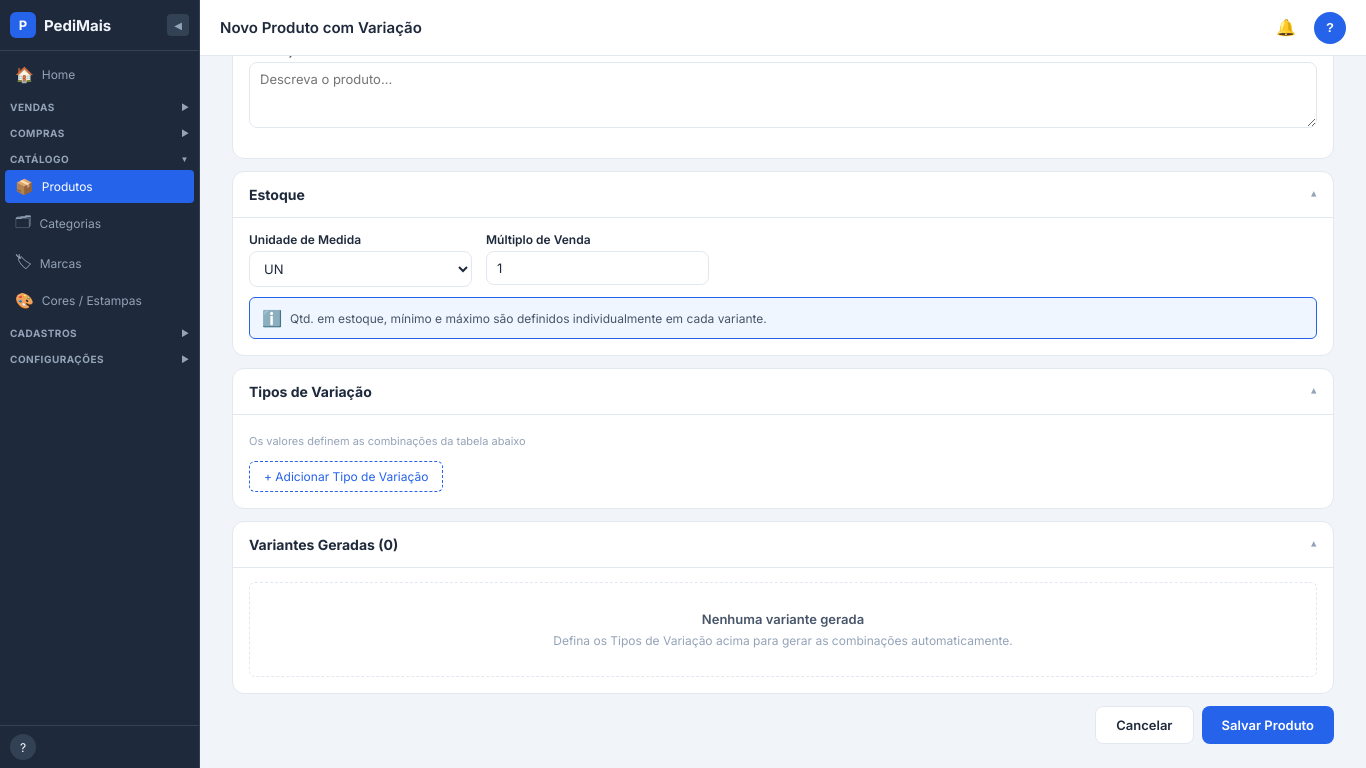
ProductVariationFormView › edits a matrix-generated variante row
The image size is (1366, 768).
(page scrolled)
Click the button with test id "adicionar-tipo-variacao": (346, 476) [249, 461, 443, 492]
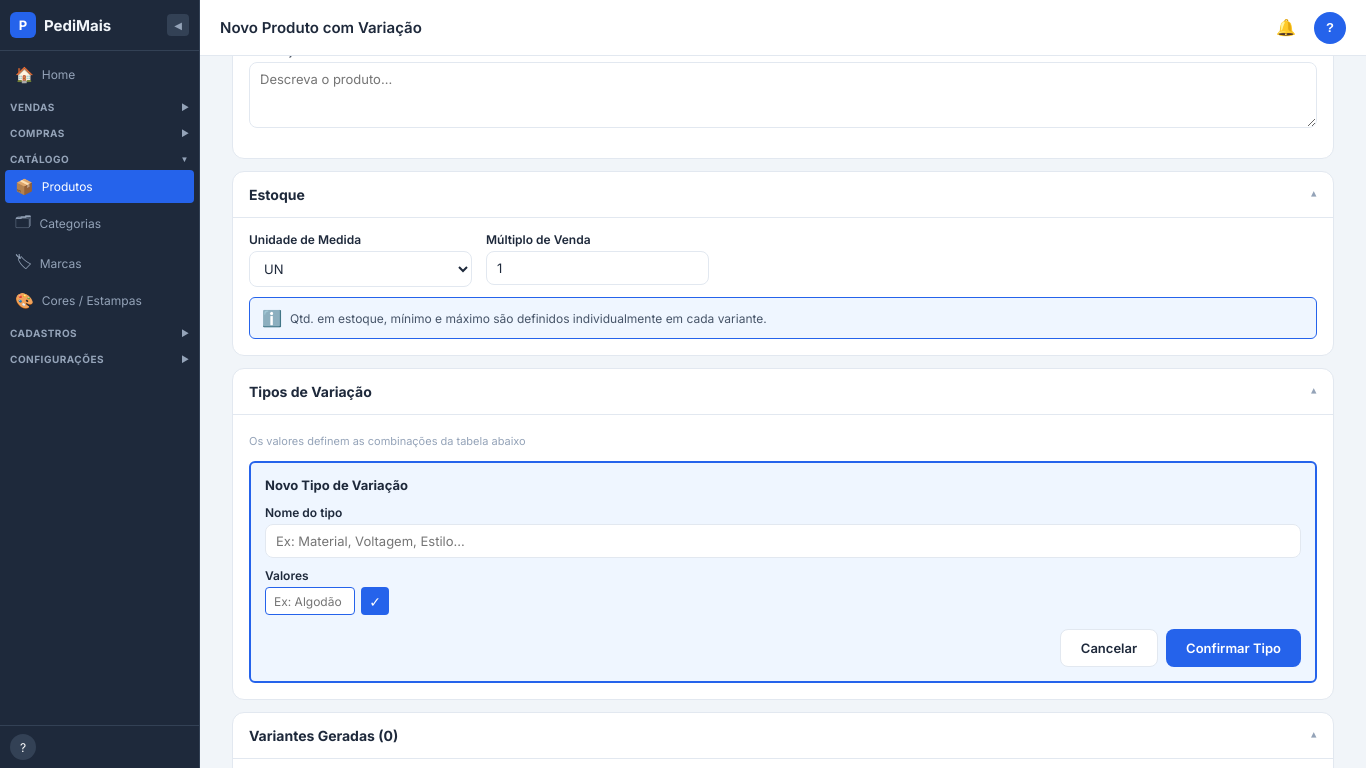
In the field with test id "var-novo-tipo-nome": (783, 541) [265, 524, 1301, 558], type "Tamanho"
In the field with test id "var-novo-tipo-valor-input": (310, 601) [265, 587, 355, 615], type "P"
Click the text with test id "var-novo-tipo-valor-confirmar": (375, 601) [361, 587, 389, 615]
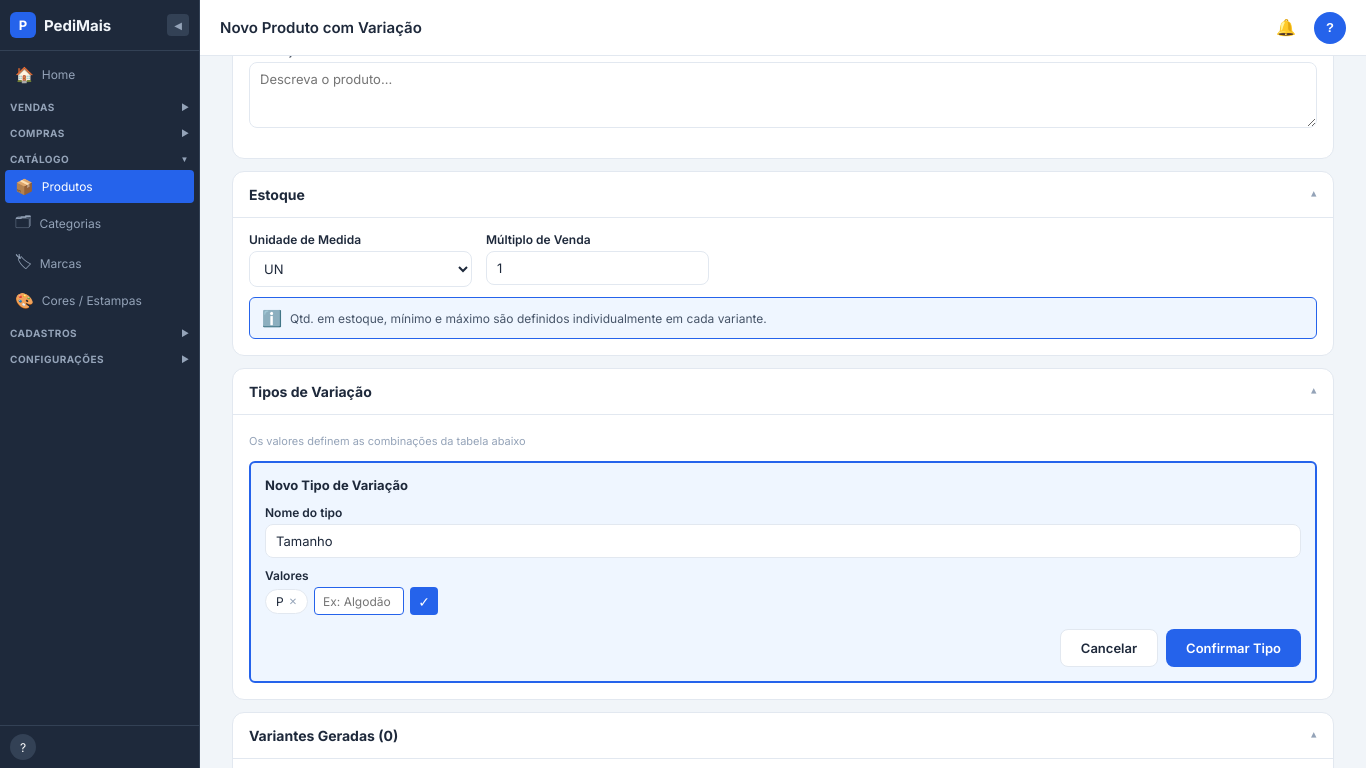
Click the button with test id "var-novo-tipo-confirmar": (1234, 648) [1166, 629, 1301, 667]
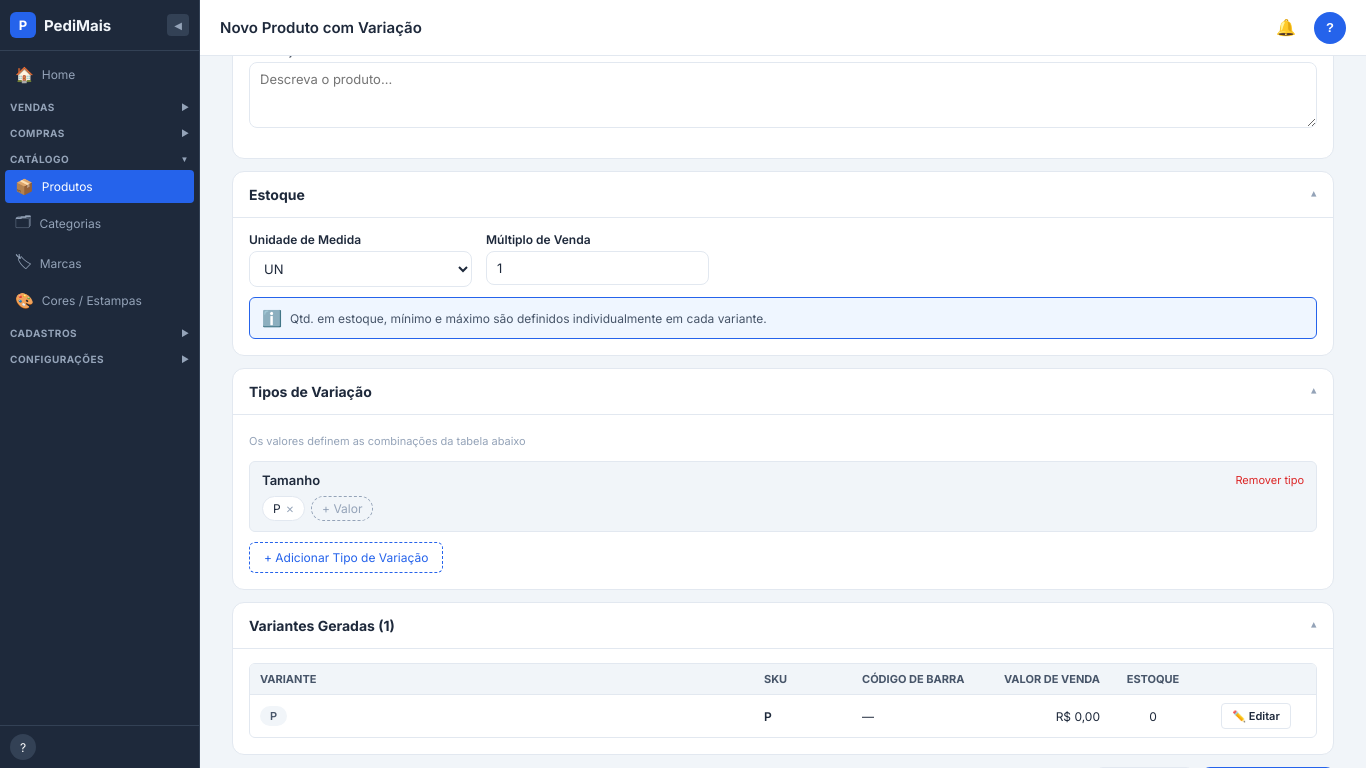
Click the button with test id "variante-editar-0": (1256, 716) [1221, 703, 1291, 729]
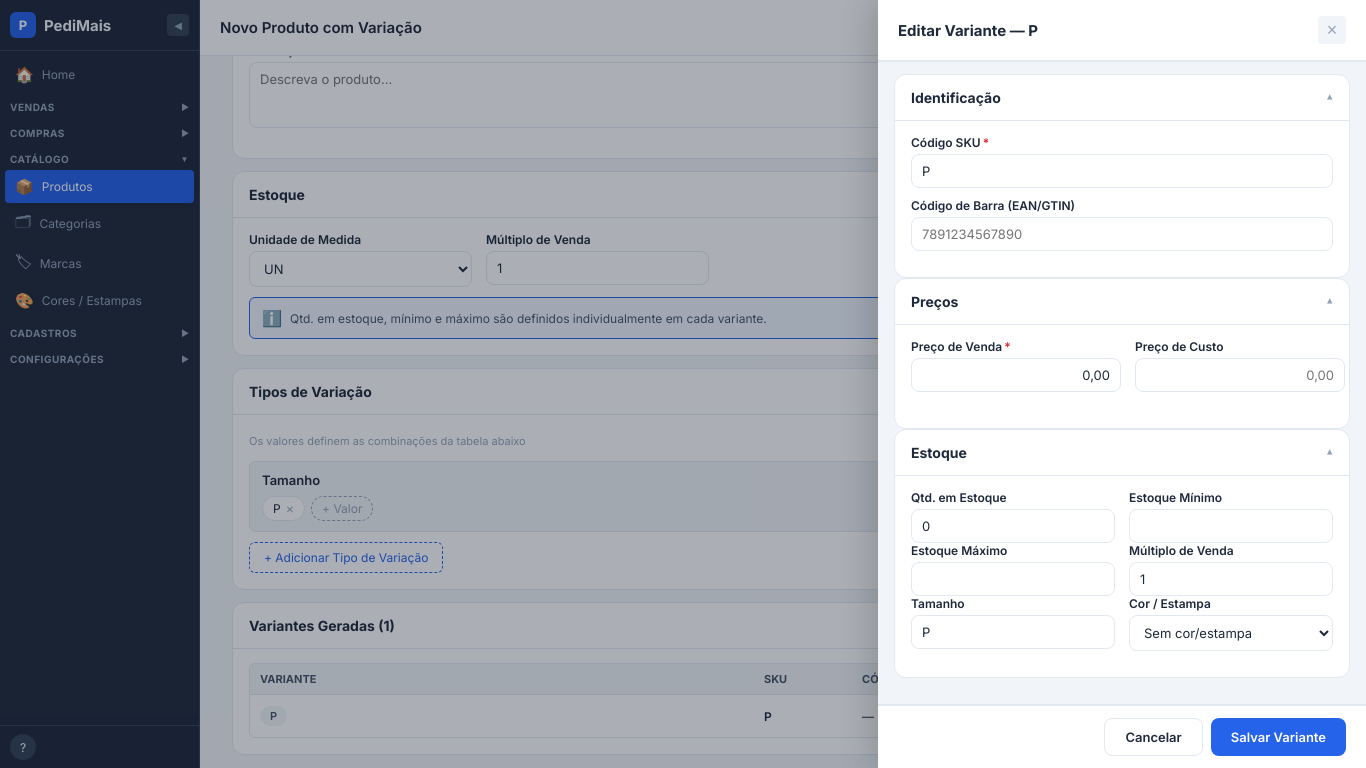
In the field with test id "variante-preco-venda": (1016, 375) [922, 367, 1110, 383], type "84.90"
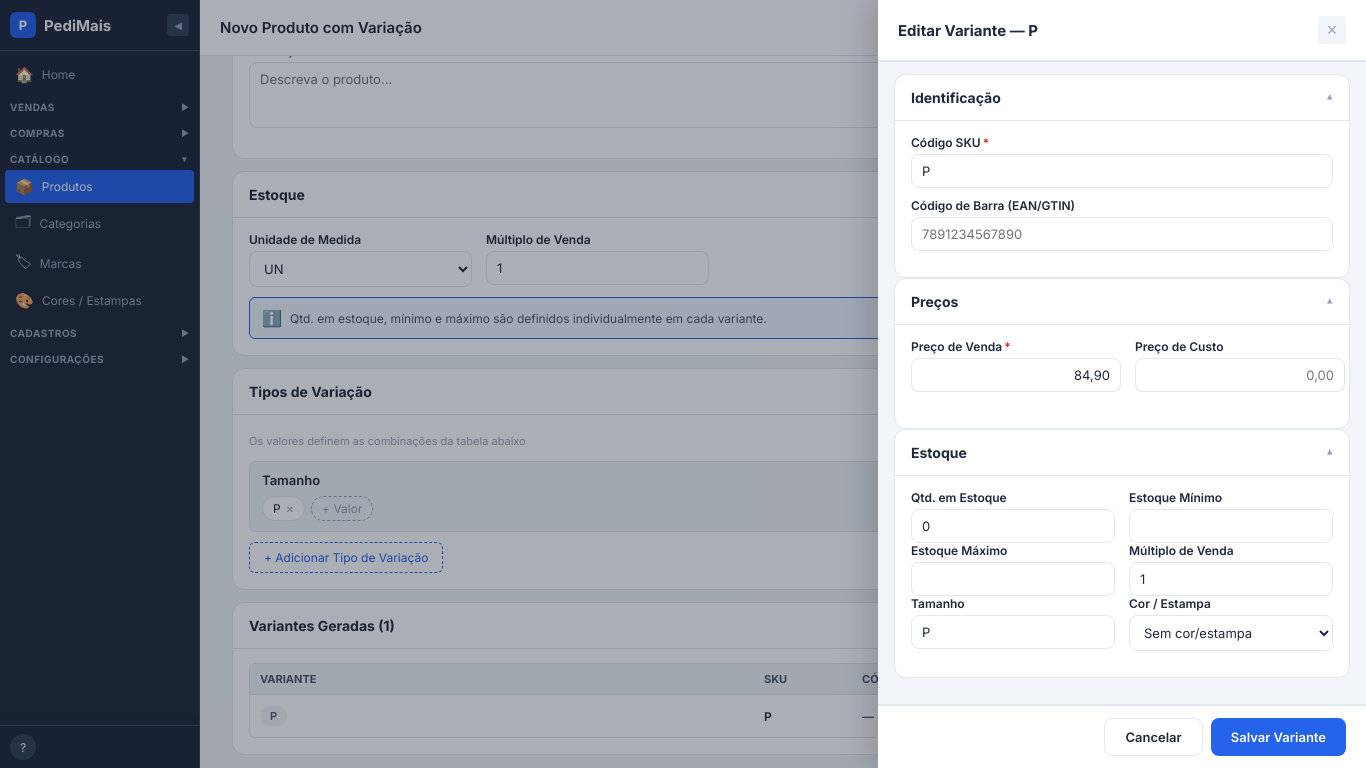
Click the button with test id "variante-salvar": (1278, 737) [1211, 718, 1346, 756]
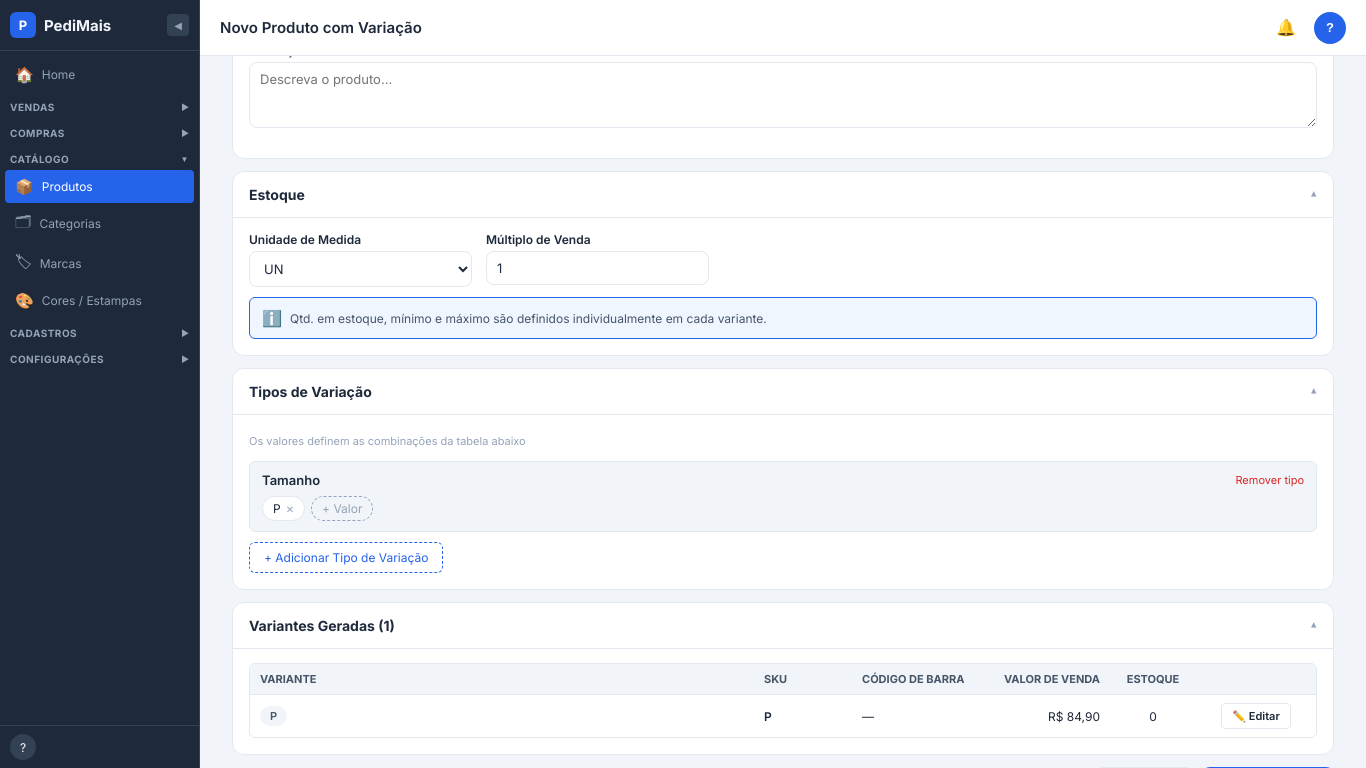
Expected: the text "84,90" is shown, [1048, 708, 1100, 724]
